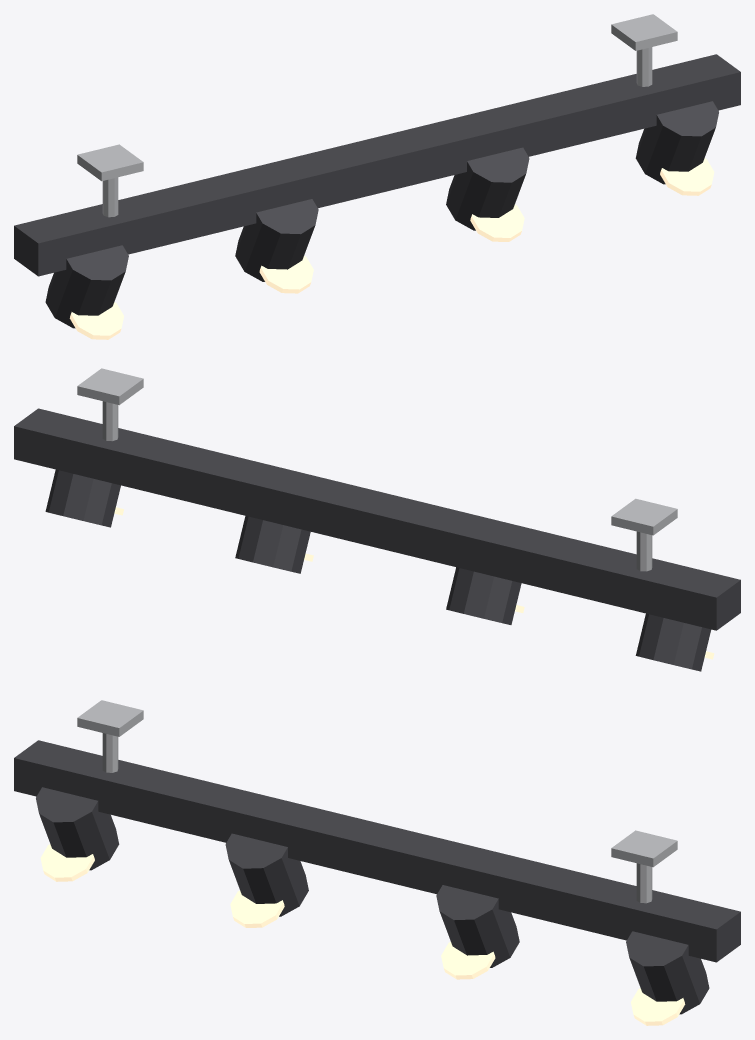
File: stage_light_bar.glb
The picture shows the model from 3 angles, top to bottom: view 1: azimuth 30°, elevation 25°; view 2: azimuth 150°, elevation 25°; view 3: azimuth 330°, elevation 25°; orthographic projection.
Parts seen in each view (by area): view 1: Stage Light Bar; view 2: Stage Light Bar; view 3: Stage Light Bar.
Part boxes in pixels (x1,y1,x2,y2): Stage Light Bar: (14,14,740,339); Stage Light Bar: (14,368,740,671); Stage Light Bar: (14,700,740,1025).
Bounding box in the file's own units: 1 × 0.2117 × 0.1188.
